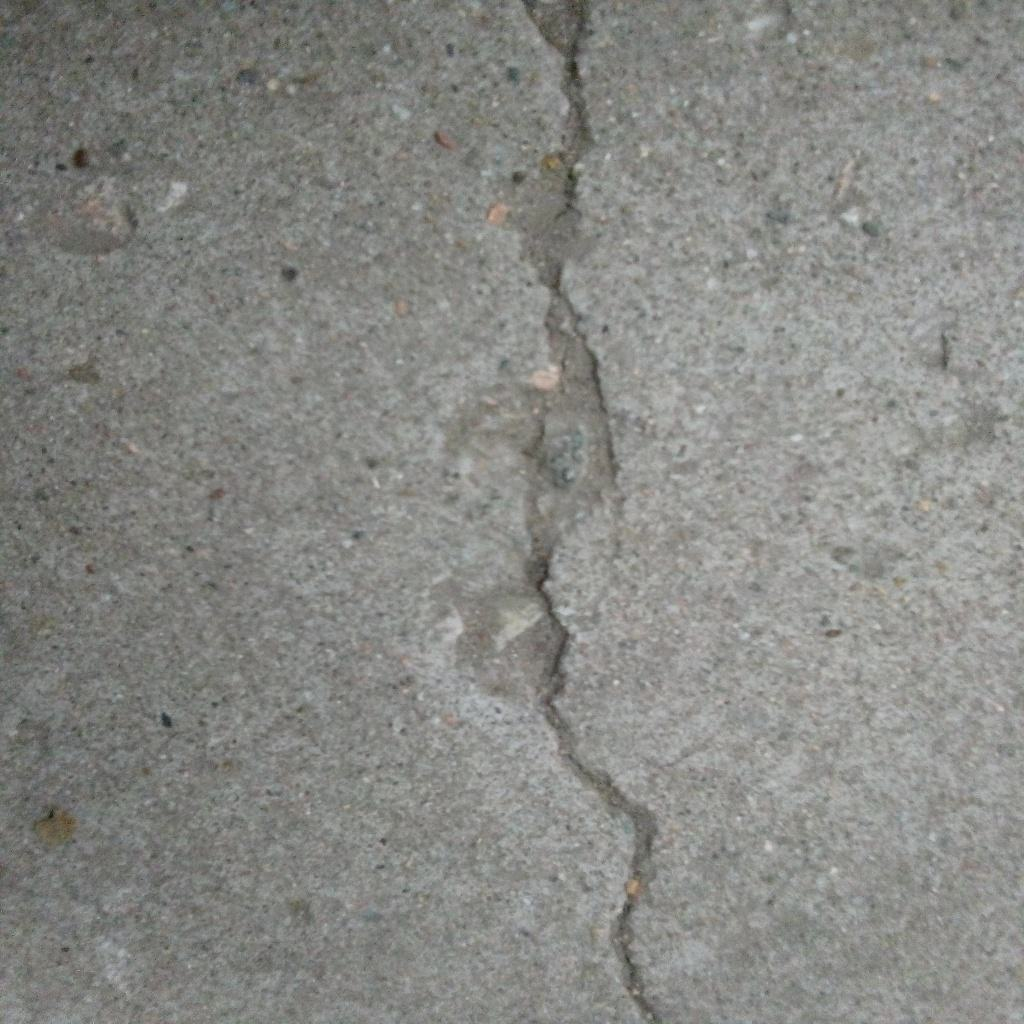Crack: (518, 1, 665, 1024)
